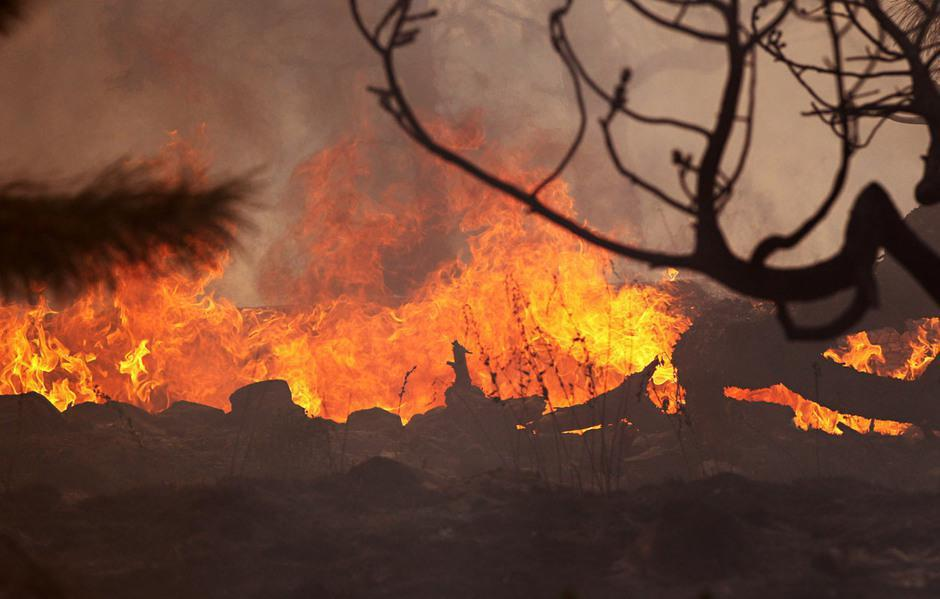fire: (5, 247, 693, 412), (317, 106, 580, 259), (742, 326, 938, 436)
